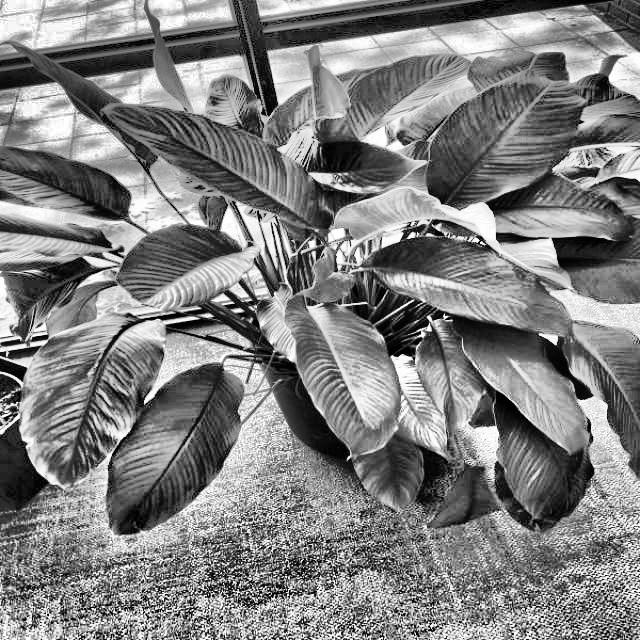plants: (66, 22, 636, 536)
